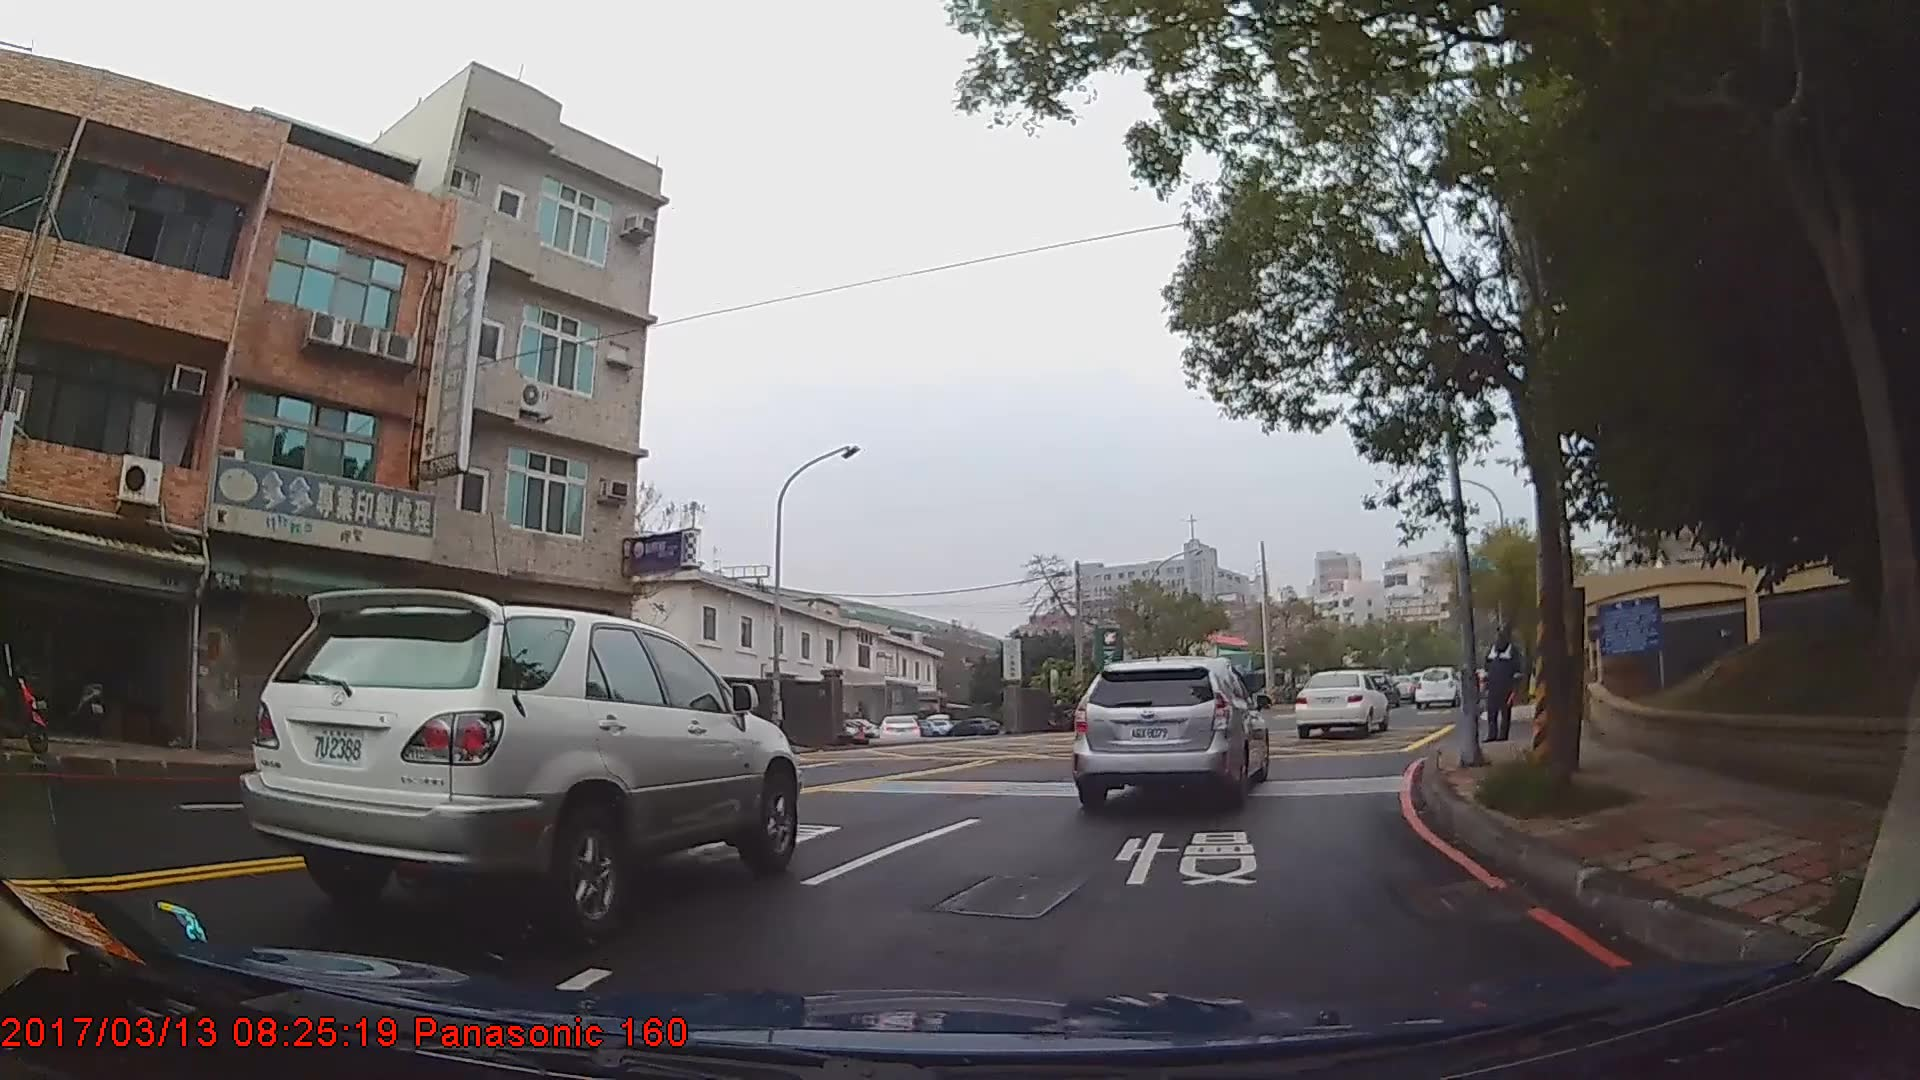pedestrian: (1482, 624, 1526, 744)
vehicle: (239, 587, 801, 942), (1067, 657, 1267, 809), (1292, 667, 1391, 739), (1411, 664, 1461, 710), (877, 713, 924, 743), (944, 715, 1002, 736)
